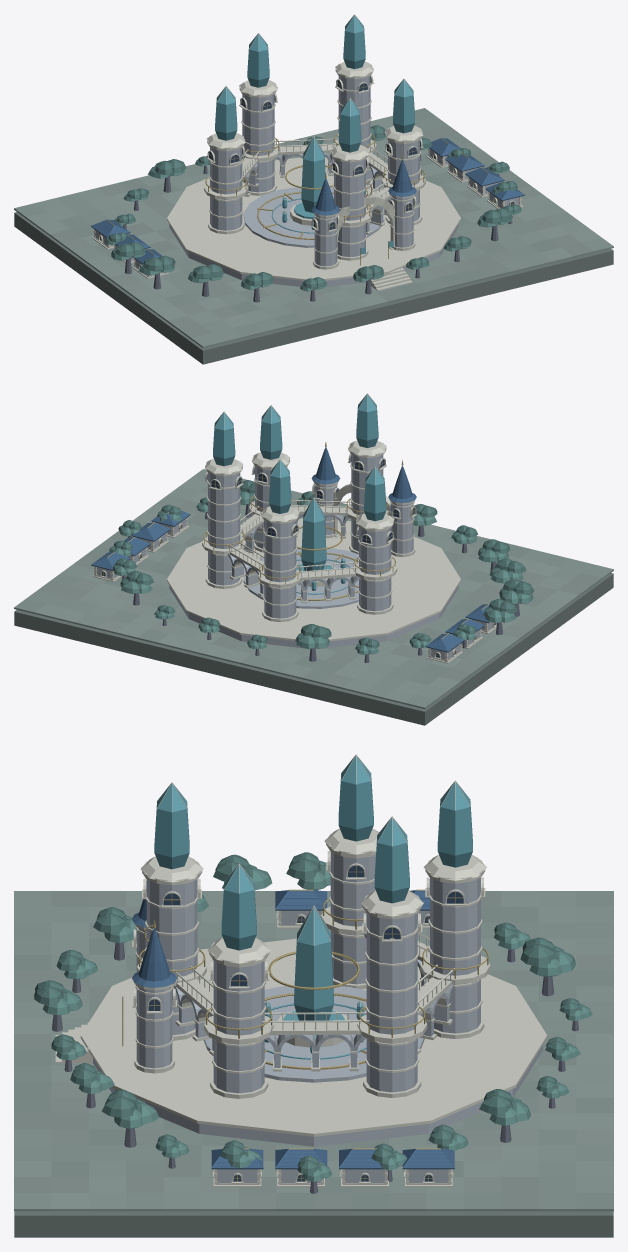
Rendered from arcane.glb.
3 views of the same model, one above another, from view 1: azimuth 30°, elevation 25°; view 2: azimuth 150°, elevation 25°; view 3: azimuth 270°, elevation 25° (orthographic). The views are drawn at different scales.
Parts seen in each view (by area): view 1: site, disc, landscape, entry, observatory-0, observatory-4, observatory-1, sky-galleries, landscape-roof, resonator, observatory-3, observatory-2 (+6 smaller); view 2: site, disc, landscape, sky-galleries, observatory-2, observatory-1, observatory-0, entry, landscape-roof, resonator, observatory-4, observatory-1-roof (+6 smaller); view 3: site, disc, landscape, observatory-2, observatory-1, observatory-3, sky-galleries, observatory-4, observatory-0, resonator, landscape-roof, entry (+6 smaller).
Boxes of the visible parts, box(x1,y1,x2,y2) form: site: box(14, 108, 613, 364); disc: box(167, 157, 460, 290); landscape: box(92, 125, 523, 302); entry: box(311, 193, 417, 269); observatory-0: box(204, 135, 248, 234); observatory-4: box(330, 147, 372, 260); observatory-1: box(239, 81, 280, 195); sky-galleries: box(242, 138, 391, 234); landscape-roof: box(91, 138, 524, 263); resonator: box(282, 136, 333, 229); observatory-3: box(382, 127, 425, 225); observatory-2: box(332, 63, 376, 189); site: box(14, 469, 613, 725); disc: box(167, 518, 460, 649); landscape: box(92, 480, 533, 663); sky-galleries: box(227, 500, 362, 603); observatory-2: box(202, 461, 246, 588); observatory-1: box(258, 508, 302, 622); observatory-0: box(353, 515, 397, 614); entry: box(311, 480, 417, 556); landscape-roof: box(91, 510, 489, 652); resonator: box(296, 497, 345, 590); observatory-4: box(345, 442, 388, 554); observatory-1-roof: box(261, 459, 299, 521); site: box(14, 891, 613, 1237); disc: box(55, 938, 547, 1146); landscape: box(34, 852, 592, 1193); observatory-2: box(357, 895, 427, 1097); observatory-1: box(420, 859, 490, 1038); observatory-3: box(204, 942, 274, 1098); sky-galleries: box(173, 918, 454, 1071); observatory-4: box(137, 861, 206, 1040); observatory-0: box(321, 833, 376, 989); resonator: box(264, 905, 364, 1053); landscape-roof: box(211, 889, 454, 1169); entry: box(132, 922, 176, 1073).
Size of the model in its own units: 59.01 by 27.06 by 47.06.
